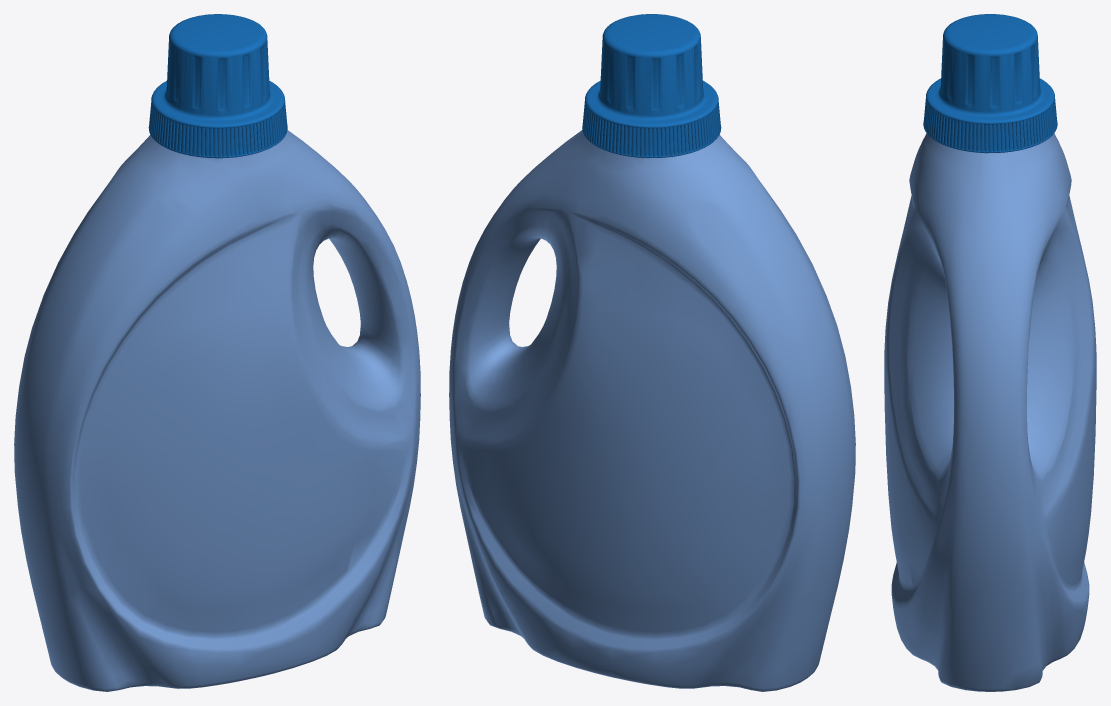
Rendered from detergent.glb.
3 renders of one model, left to right at view 1: azimuth 30°, elevation 25°; view 2: azimuth 150°, elevation 25°; view 3: azimuth 270°, elevation 25°, orthographic. The views are drawn at different scales.
Visible parts, largest first — view 1: detergent; view 2: detergent; view 3: detergent.
Boxes of the visible parts, box(x1,y1,x2,y2) form: detergent: box(14, 14, 420, 691); detergent: box(449, 14, 855, 691); detergent: box(884, 14, 1096, 691).
Size of the model in its own units: 0.1972 by 0.3002 by 0.0984.
1 material, 1 textured.
